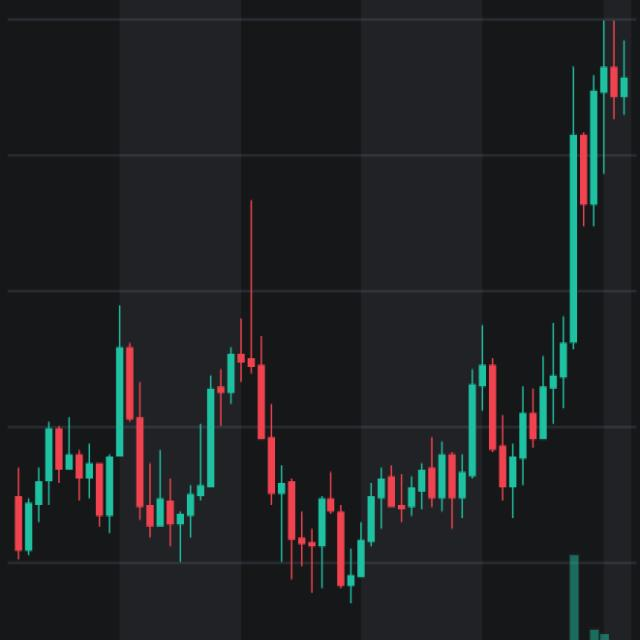Resistance-Emerging: (7, 360, 501, 606)
Resistance-breakout: (360, 29, 630, 593)
